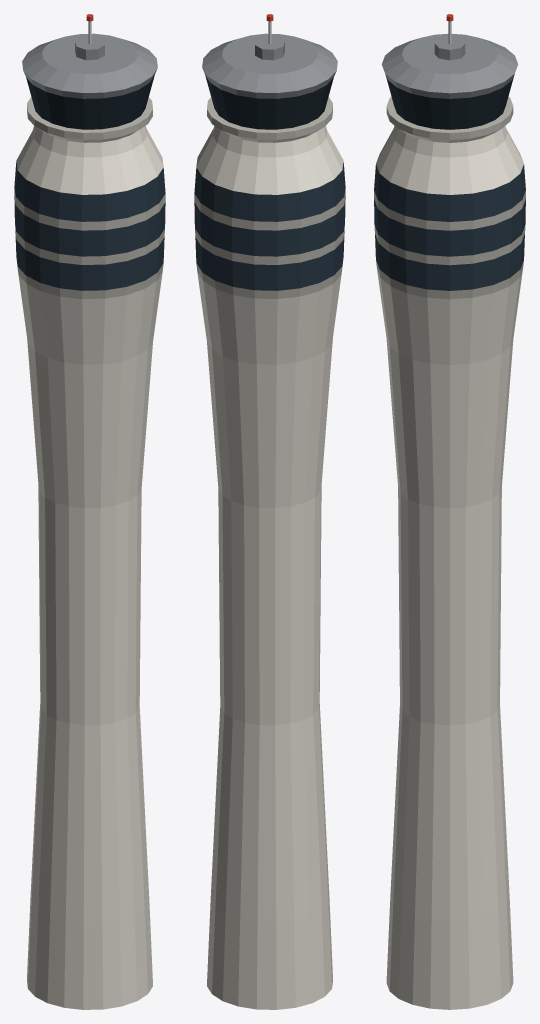
Rendered from faa_airport_traffic_co_w340018195.glb.
3 renders of one model, left to right at view 1: azimuth 30°, elevation 25°; view 2: azimuth 150°, elevation 25°; view 3: azimuth 270°, elevation 25°, orthographic.
Parts seen in each view (by area): view 1: ControlTower; view 2: ControlTower; view 3: ControlTower.
Boxes of the visible parts, left/top/right/bottom form: ControlTower: left=14, top=14, right=165, bottom=1009; ControlTower: left=194, top=14, right=345, bottom=1009; ControlTower: left=374, top=14, right=525, bottom=1009.
Size of the model in its own units: 15.8 by 111 by 15.8.
